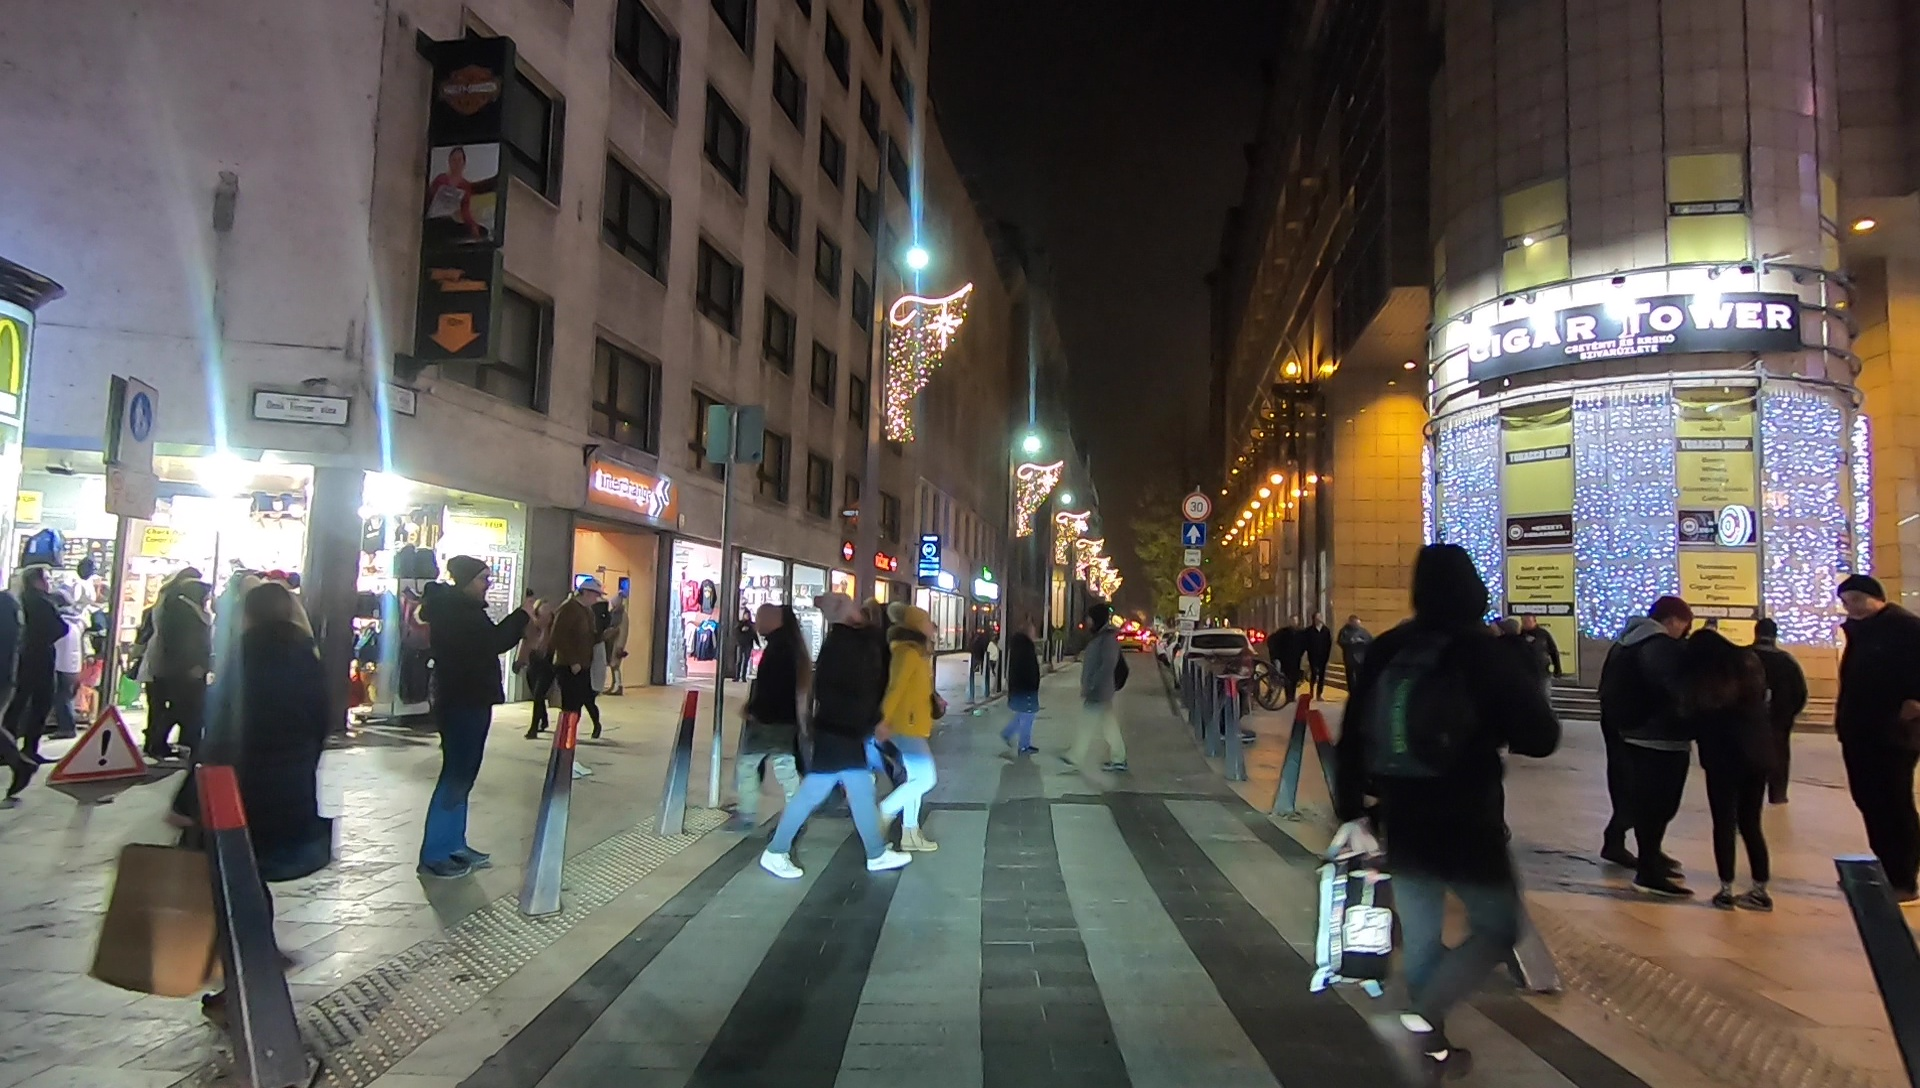person: (1326, 537, 1530, 1061), (126, 595, 332, 1013), (419, 565, 530, 884), (771, 600, 893, 884), (1602, 591, 1699, 900), (1830, 563, 1920, 893), (1693, 619, 1776, 904), (730, 591, 810, 830), (878, 604, 949, 858), (1058, 602, 1138, 776), (1745, 621, 1812, 811), (539, 571, 612, 736), (141, 571, 204, 747), (12, 567, 64, 760), (997, 619, 1047, 758), (1517, 611, 1560, 732), (1267, 610, 1308, 697), (1336, 608, 1369, 693), (1306, 606, 1332, 693)
